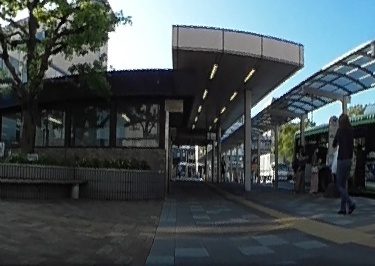person: (331, 114, 356, 211), (291, 143, 308, 193), (307, 144, 322, 193)
